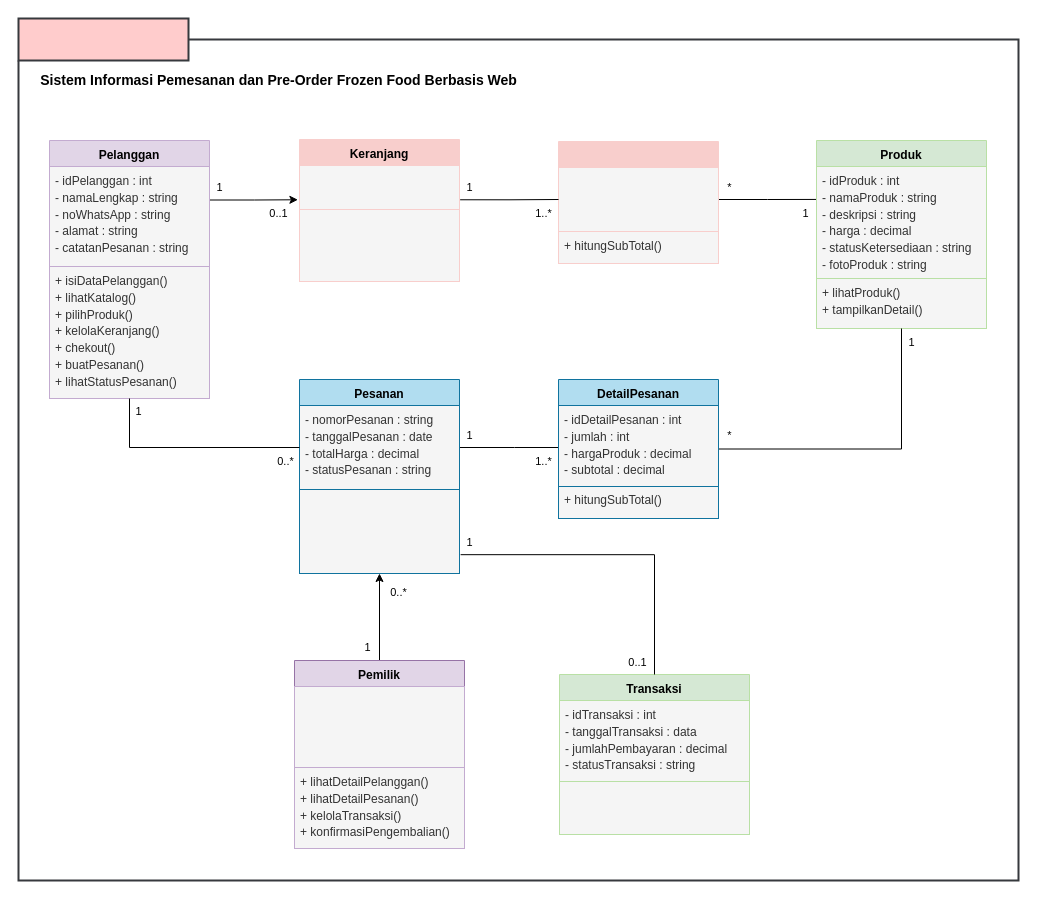
This 1037x899 diagram has some shape labels left out. Here are the shapes that lost their labels. From the top down, the box of each, then its label:
(17, 17, 189, 61): Class Diagram
(298, 164, 460, 210): - idKeranjang : int - totalHarga : decimal
(558, 166, 718, 232): - idDetaiKeranjang : int - jumlah : int - subtotal : decimal
(558, 140, 718, 264): DetailKeranjang
(298, 208, 460, 282): + tambahProduk() + ubahJumlah() + hapusProduk() + hitungTotal()
(298, 488, 460, 574): + buatPesanan() + hitungTotal() + konfirmasiPesanan() + lihatDetailPesanan()
(294, 686, 464, 768): - idPemilik : int - nama : string - email : string + password : string
(558, 780, 750, 834): + konfirmasiTransaksi() + lihatRiwayatTransaksi()
